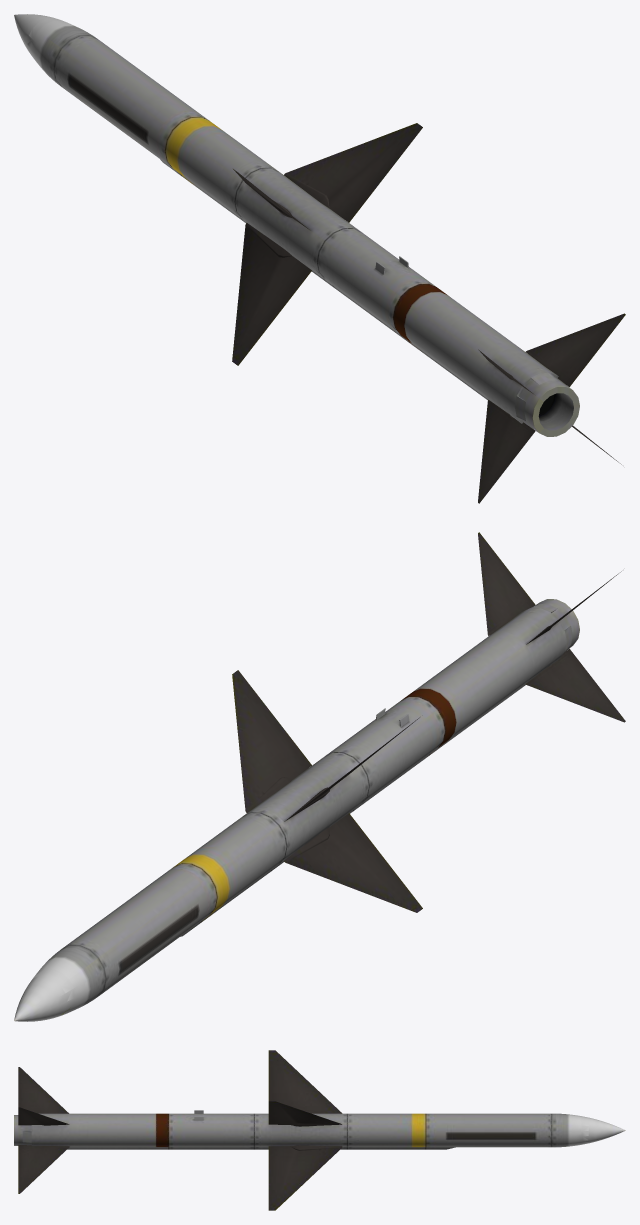
The model's file is aim7.glb.
3 renders of one model, top to bottom at view 1: azimuth 30°, elevation 25°; view 2: azimuth 150°, elevation 25°; view 3: azimuth 270°, elevation 25°, orthographic. The views are drawn at different scales.
Parts seen in each view (by area): view 1: aim7_body; view 2: aim7_body; view 3: aim7_body.
Boxes of the visible parts, x1,y1,x2,y2 form: aim7_body: (14, 14, 625, 503); aim7_body: (14, 532, 625, 1021); aim7_body: (14, 1050, 625, 1210).
Size of the model in its own units: 0.7184 by 0.7184 by 3.65.
1 material, 1 textured.
